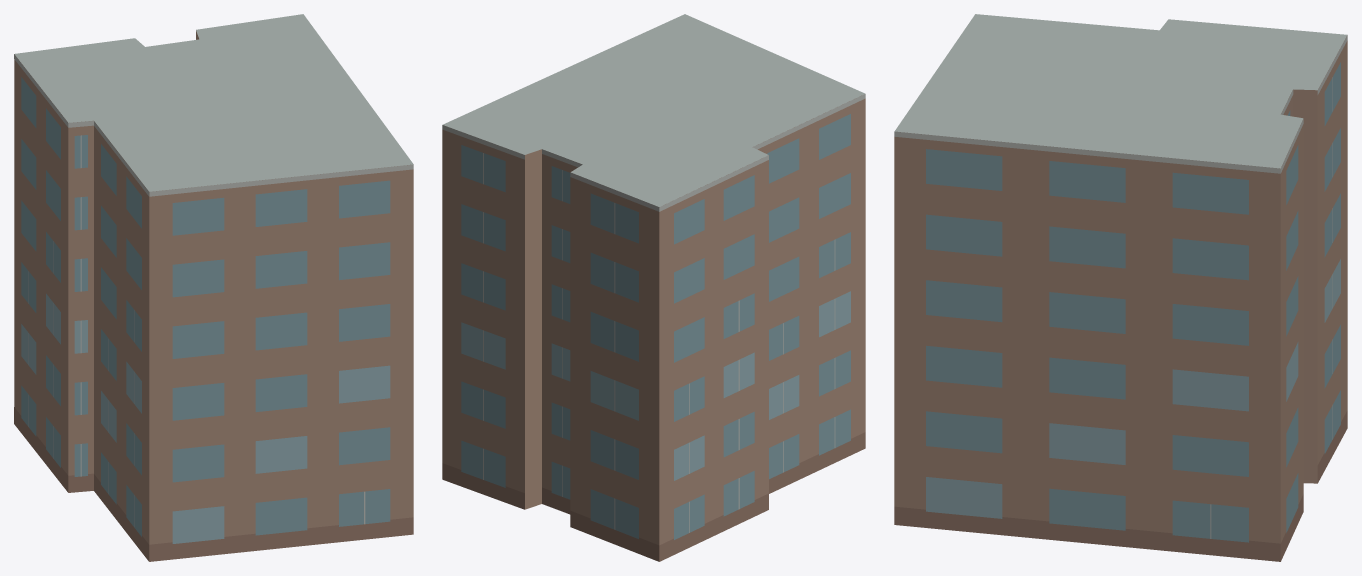
File: survey-upis-32589026.glb
3 views of the same model, side by side, from view 1: azimuth 30°, elevation 25°; view 2: azimuth 150°, elevation 25°; view 3: azimuth 270°, elevation 25° (orthographic). The views are drawn at different scales.
Visible parts, largest first — view 1: survey-upis-32589026.tmp; view 2: survey-upis-32589026.tmp; view 3: survey-upis-32589026.tmp.
Part boxes in pixels (x1,y1,x2,y2): survey-upis-32589026.tmp: (14,14,413,561); survey-upis-32589026.tmp: (442,14,865,561); survey-upis-32589026.tmp: (894,14,1347,561).
Size of the model in its own units: 15.42 by 18.3 by 19.12.
